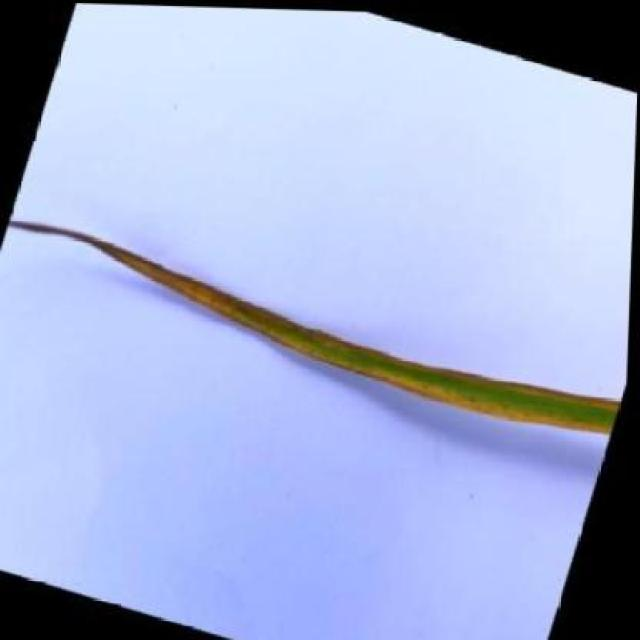Rice False Smut: (0, 212, 631, 451)
